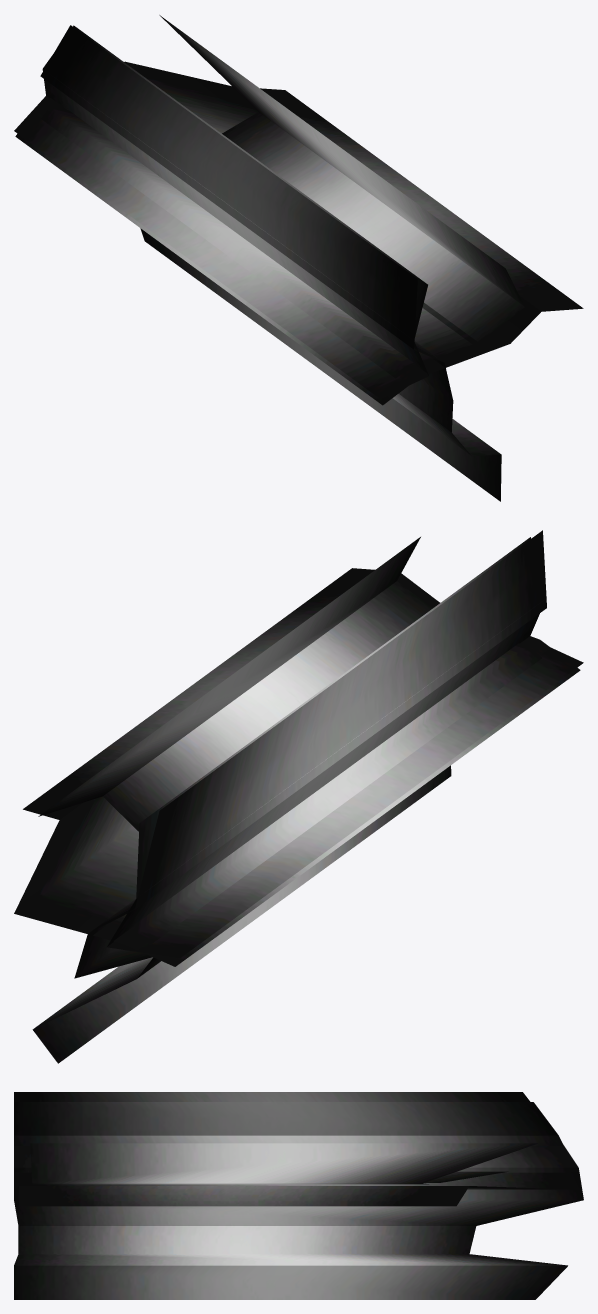
File: vfx_kurp_0228.dae
3 renders of one model, top to bottom at view 1: azimuth 30°, elevation 25°; view 2: azimuth 150°, elevation 25°; view 3: azimuth 270°, elevation 25°, orthographic. The views are drawn at different scales.
Parts seen in each view (by area): view 1: vfx_kurp_0228; view 2: vfx_kurp_0228; view 3: vfx_kurp_0228.
Boxes of the visible parts, box(x1,y1,x2,y2) form: vfx_kurp_0228: box(14, 15, 583, 501); vfx_kurp_0228: box(14, 530, 583, 1063); vfx_kurp_0228: box(14, 1092, 583, 1299).
Bounding box in the file's own units: 5.07 × 16.51 × 5.69.
1 material, 1 textured.
